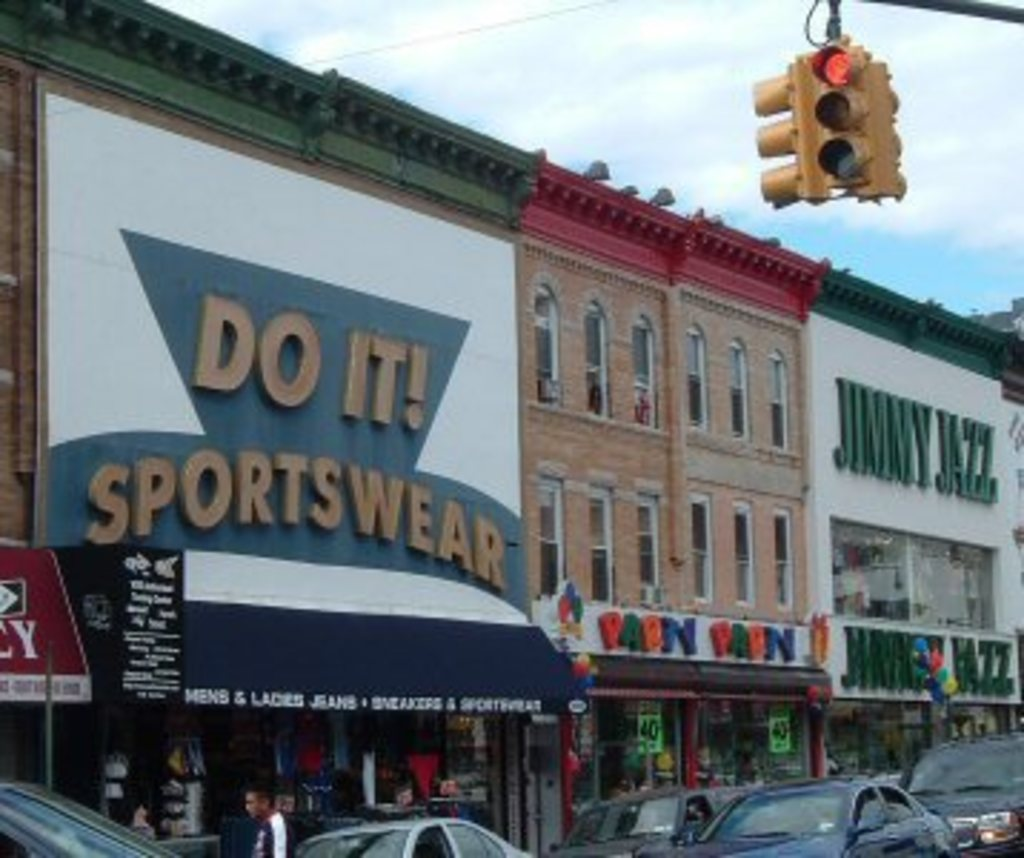Car: (0, 726, 1021, 855)
